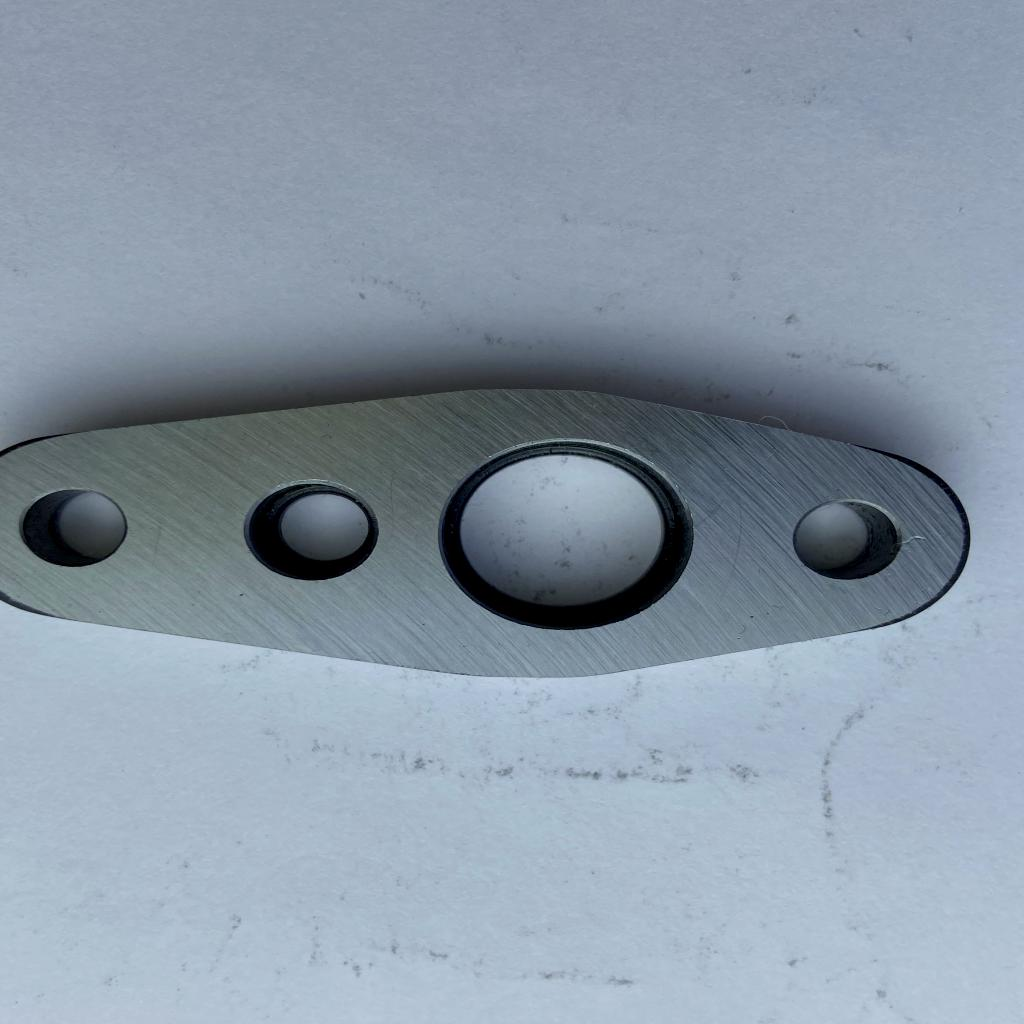chap: (901, 535, 928, 546), (748, 611, 772, 620), (233, 591, 247, 600), (188, 602, 198, 608), (96, 609, 104, 614)
lines: (719, 504, 746, 600), (696, 497, 748, 530), (382, 468, 398, 546)
